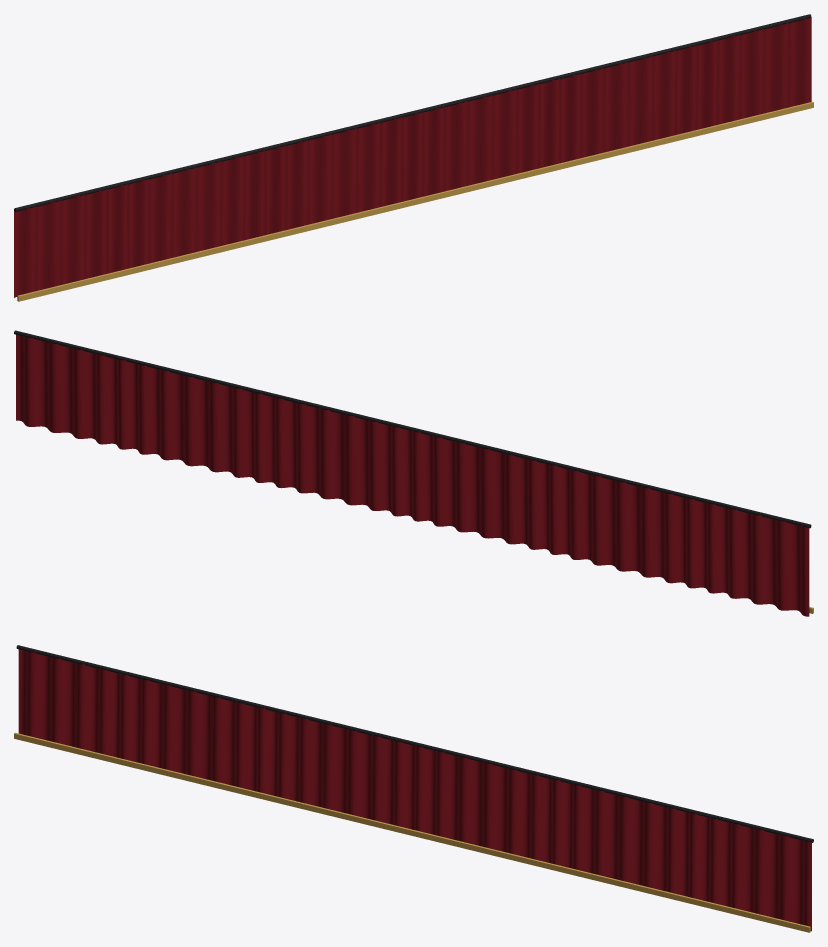
The model's file is valance.glb.
3 renders of one model, top to bottom at view 1: azimuth 30°, elevation 25°; view 2: azimuth 150°, elevation 25°; view 3: azimuth 330°, elevation 25°, orthographic.
Bounding box in the file's own units: 11.2 × 1.22 × 0.135.
